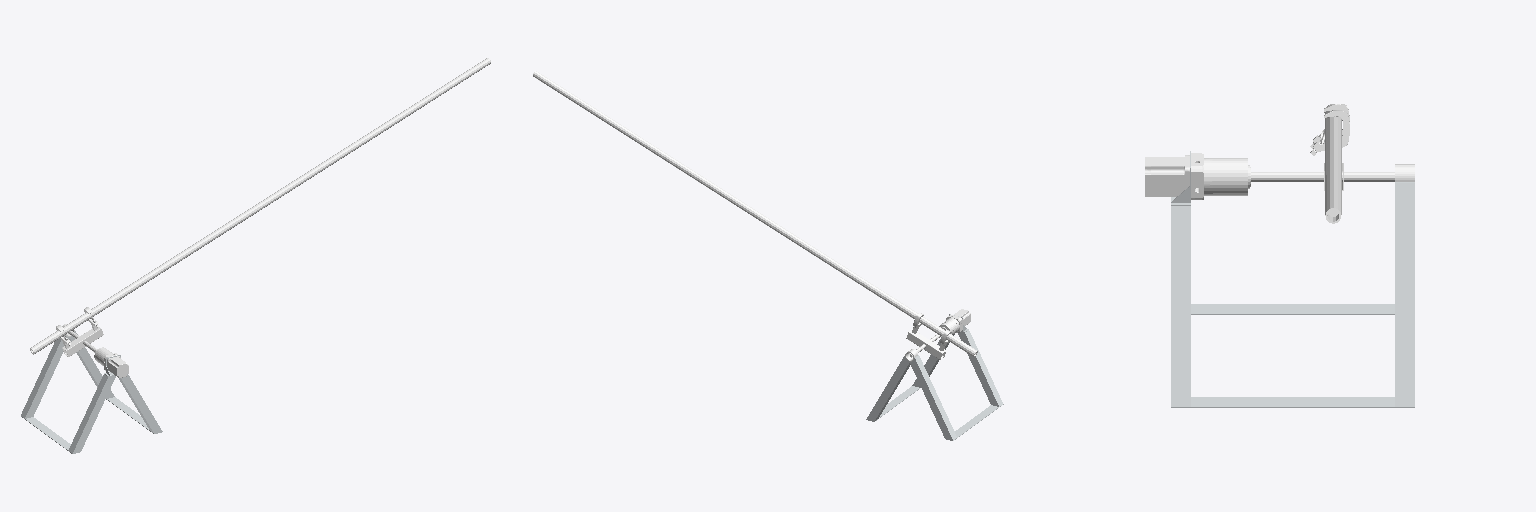
URDF robot description (auto_fisher):
<?xml version="1.0" encoding="utf-8"?>
<!-- This URDF was automatically created by SolidWorks to URDF Exporter! Originally created by [author] ([email redacted])
     Commit Version: 1.6.0-1-g15f4949  Build Version: 1.6.7594.29634
     For more information, please see http://wiki.ros.org/sw_urdf_exporter -->
<robot
  name="auto_fisher">
  <link
    name="base_link">
    <inertial>
      <origin
        xyz="-0.24689 -0.29979 0.19957"
        rpy="0 0 0" />
      <mass
        value="4.0427" />
      <inertia
        ixx="0.079204"
        ixy="-8.9533E-17"
        ixz="2.0728E-16"
        iyy="0.078459"
        iyz="-1.1378E-05"
        izz="0.039337" />
    </inertial>
    <visual>
      <origin
        xyz="0 0 0"
        rpy="0 0 0" />
      <geometry>
        <mesh
          filename="package://auto_fisher/meshes/base_link.STL" />
      </geometry>
      <material
        name="">
        <color
          rgba="0.89804 0.91765 0.92941 1" />
      </material>
    </visual>
    <collision>
      <origin
        xyz="0 0 0"
        rpy="0 0 0" />
      <geometry>
        <mesh
          filename="package://auto_fisher/meshes/base_link.STL" />
      </geometry>
    </collision>
  </link>
  <link
    name="shaft_pole">
    <inertial>
      <origin
        xyz="-0.29644 0.31672 -0.021274"
        rpy="0 0 0" />
      <mass
        value="5.6829" />
        <!-- <mass
          value="3" /> -->
      <inertia
        ixx="1.3375"
        ixy="-1.2586E-07"
        ixz="0.0014204"
        iyy="0.025161"
        iyz="-7.4757E-08"
        izz="1.3586" />
    </inertial>
    <visual>
      <origin
        xyz="0 0 0"
        rpy="0 0 0" />
      <geometry>
        <mesh
          filename="package://auto_fisher/meshes/shaft_pole.STL" />
      </geometry>
      <material
        name="">
        <color
          rgba="1 1 1 1" />
      </material>
    </visual>
    <collision>
      <origin
        xyz="0 0 0"
        rpy="0 0 0" />
      <geometry>
        <mesh
          filename="package://auto_fisher/meshes/shaft_pole.STL" />
      </geometry>
    </collision>
    <sensor name="force_torque" type="force_torque">
      <update_rate>20</update_rate>
    </sensor>
  </link>
  <joint
    name="joint1"
    type="revolute">
    <origin
      xyz="-0.24689 0 0.49409"
      rpy="2.7827 0.059139 1.5486" />
    <parent
      link="base_link" />
    <child
      link="shaft_pole" />
    <axis
      xyz="0.99801 0 -0.063112" />

    <limit effort="400" velocity="0.63" lower="-3.14" upper="3.14" />
    <dynamics damping="0.7"/>

  </joint>
  <!-- Used for fixing robot to Gazebo 'base_link' -->
  <link name="world"/>
  <joint name="fixed" type="fixed">
    <parent link="world"/>
    <child link="base_link"/>
  </joint>

  <!-- <joint name="dc_motor" type="continuous">
    <parent link="base_link"/>
    <child link="shaft_pole"/>
    <origin
      xyz="-0.24689 0 0.49409"
      rpy="2.7827 0.059139 1.5486" />
    <axis xyz="0.99801 0 -0.063112" />
    <dynamics damping="0.005" friction="0.01"/>
    <limit effort="100" velocity="30" lower="-3.14" upper="3.14" />
  </joint>
  <gazebo reference="dc_motor">
    <provideFeedback>true</provideFeedback>
  </gazebo>
  <gazebo>
    <plugin filename="libgazebo_ros_dc_motor.so" name="motor_plugin">
      <motor_shaft_joint>dc_motor</motor_shaft_joint>
      <motor_wrench_frame>one_wheel_link</motor_wrench_frame>
      <command_topic>dc_motor/command</command_topic>
      <velocity_topic>dc_motor/velocity</velocity_topic>
      <encoder_topic>dc_motor/encoder</encoder_topic>
      <current_topic>dc_motor/current</current_topic>
      <supply_topic>dc_motor/supply_voltage</supply_topic>
      <publish_encoder>True</publish_encoder>
      <publish_velocity>True</publish_velocity>
      <publish_current>False</publish_current>
      <publish_motor_joint_state>True</publish_motor_joint_state>
      <update_rate>100.0</update_rate>
      <motor_nominal_voltage>24.0</motor_nominal_voltage>
      <moment_of_inertia>0.001</moment_of_inertia>
      <armature_damping_ratio>0.0001</armature_damping_ratio>
      <electromotive_force_constant>0.03</electromotive_force_constant>
      <electric_resistance>13.8</electric_resistance>
      <electric_inductance>0.001</electric_inductance>
      <gear_ratio>72.0</gear_ratio>
      <encoder_ppr>111</encoder_ppr>
      <rosDebugLevel>Debug</rosDebugLevel>
    </plugin>
  </gazebo> -->

  <gazebo reference="joint1">
    <provideFeedback>true</provideFeedback>
  </gazebo>

  <!-- must also specify plugin path -->
  <gazebo>
    <plugin name="ft_sensor_plugin" filename="libgazebo_ros_ft_sensor.so">
      <updateRate>20</updateRate>
      <topicName>ft_sensor_topic</topicName>
      <gaussianNoise>0.0</gaussianNoise>
      <jointName>joint1</jointName>
    </plugin>
  </gazebo>

  <transmission name="simple_trans">
      <type>transmission_interface/SimpleTransmission</type>
      <joint name="joint1">
        <hardwareInterface>hardware_interface/EffortJointInterface</hardwareInterface>
      </joint>
      <actuator name="stepper">
        <mechanicalReduction>50</mechanicalReduction>
        <hardwareInterface>hardware_interface/EffortJointInterface</hardwareInterface>
      </actuator>
  </transmission>
  <gazebo>
      <plugin name="gazebo_ros_control" filename="libgazebo_ros_control.so">
        <robotNamespace>/fisher_robot</robotNamespace>
      </plugin>
  </gazebo>




  <!-- <xacro:include filename="$(find gazebo_ros_motors)/xacro/dc_motor.xacro"/>
  <xacro:dc_motor motor_name="dc_motor" parent_link="base_link" child_link="wheel_link">
    <xacro:property name="params_yaml" value="$(find gazebo_ros_motors)/params/dc_motor.yaml"/>
    <origin xyz="0 0 0.2" rpy="0 0 0"/>
  </xacro:dc_motor> -->
</robot>

--- Facts derived from the render (not from the file) ---
Views: 3 orthographic renders of the robot side by side, from view 1: azimuth 30°, elevation 25°; view 2: azimuth 150°, elevation 25°; view 3: azimuth 270°, elevation 25°.
Model auto_fisher with 3 links and 2 joints (1 revolute, 1 fixed), rooted at world, posed all joints at 0.
Links seen in each view (by area): view 1: shaft_pole, base_link; view 2: shaft_pole, base_link; view 3: base_link, shaft_pole.
Link boxes in pixels (x1,y1,x2,y2): shaft_pole: (30,58,490,377); base_link: (21,331,162,453); shaft_pole: (533,71,977,361); base_link: (866,314,1003,440); base_link: (1171,151,1414,407); shaft_pole: (1145,104,1414,223).
Bounding box of the posed robot: 3.11 × 0.674 × 1.69 m (x, y, z).
2 mesh visuals loaded from 2 distinct referenced files (2 binary STL).
